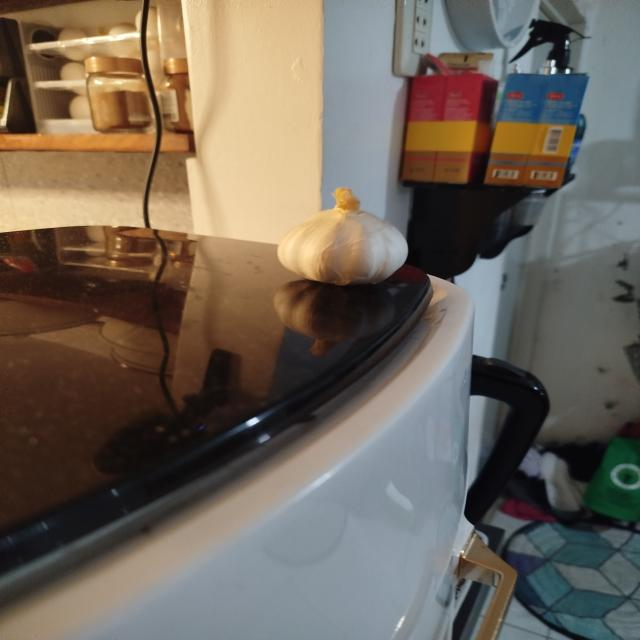garlic: (276, 187, 409, 286)
